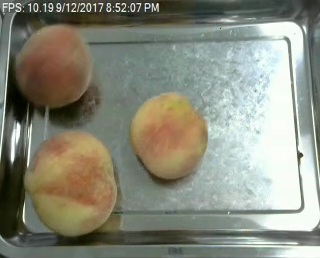Peach: (25, 129, 118, 237), (129, 92, 209, 179), (13, 24, 93, 108)
